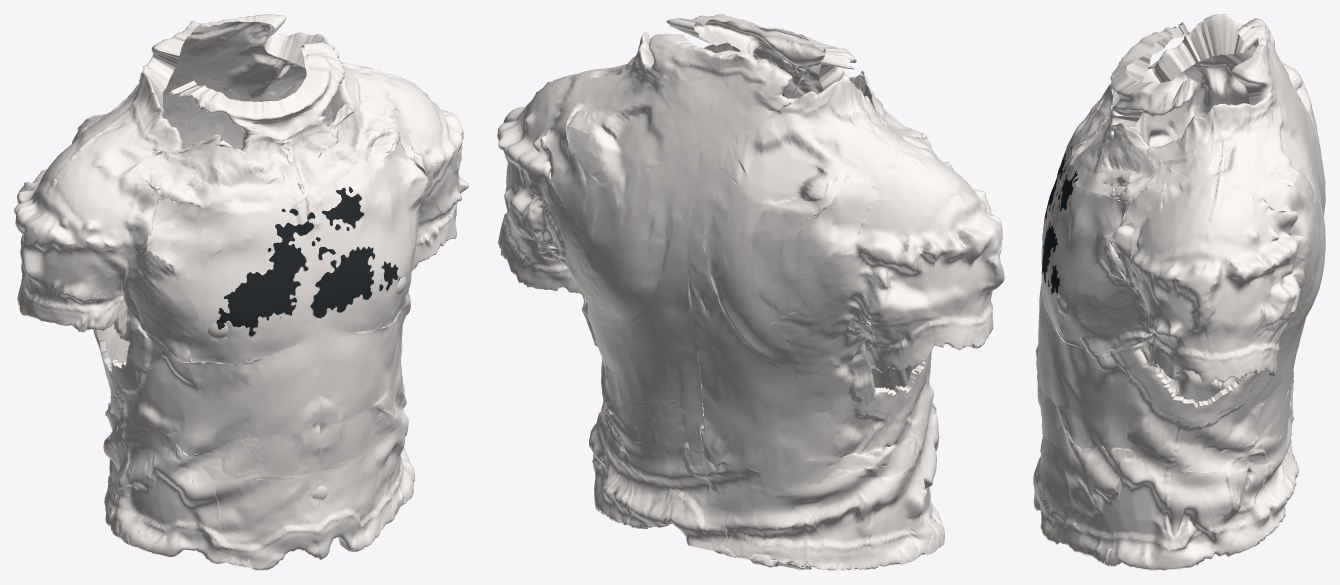
The model's file is top_tee.glb.
3 renders of one model, left to right at view 1: azimuth 30°, elevation 25°; view 2: azimuth 150°, elevation 25°; view 3: azimuth 270°, elevation 25°, orthographic. The views are drawn at different scales.
Visible parts, largest first — view 1: top_tee; view 2: top_tee; view 3: top_tee.
Part boxes in pixels (x1,y1,x2,y2): top_tee: [14, 14, 468, 570]; top_tee: [497, 14, 1004, 570]; top_tee: [1033, 14, 1325, 570].
Size of the model in its own units: 0.4867 by 0.4915 by 0.2717.
1 material, 1 textured.
